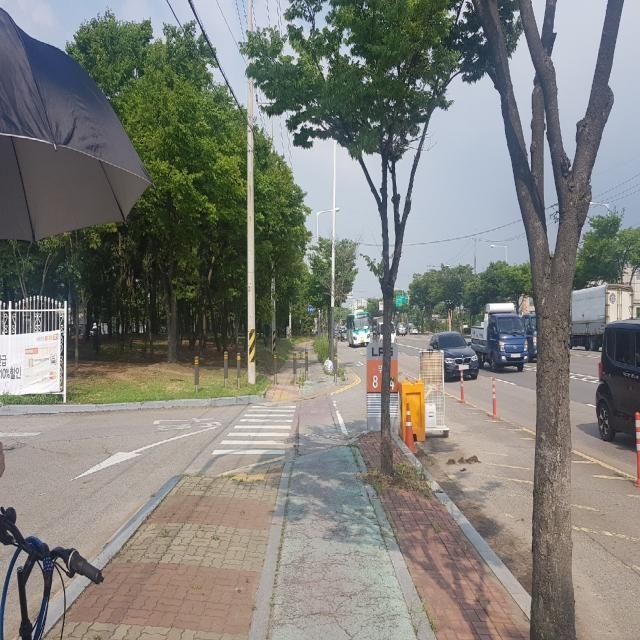횡단보도: (210, 405, 296, 456)
